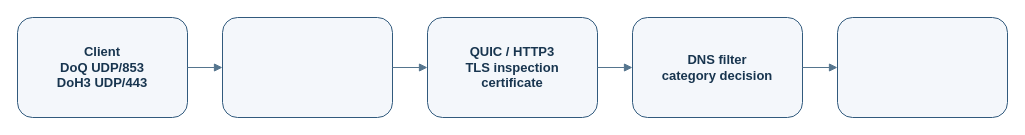
Some shapes in this 1025 by 135 pixel diagram are drawn without their labels. The shapes that lost their labels are listed below. From the top down, each one's centre as x and y in pixels, then its label:
[307,67]: FortiGate proxy policy or DNS listener
[922,67]: Upstream DNS or local DB response
